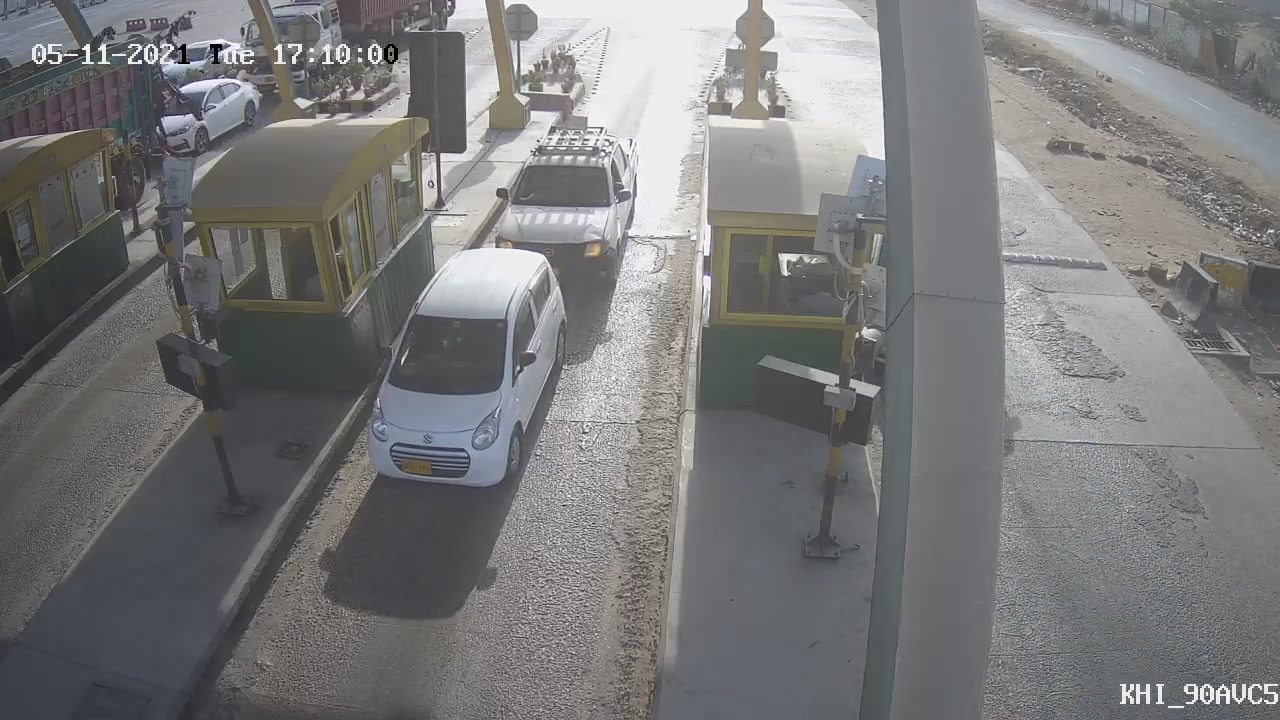F1: (353, 235, 585, 503), (478, 101, 651, 286)
